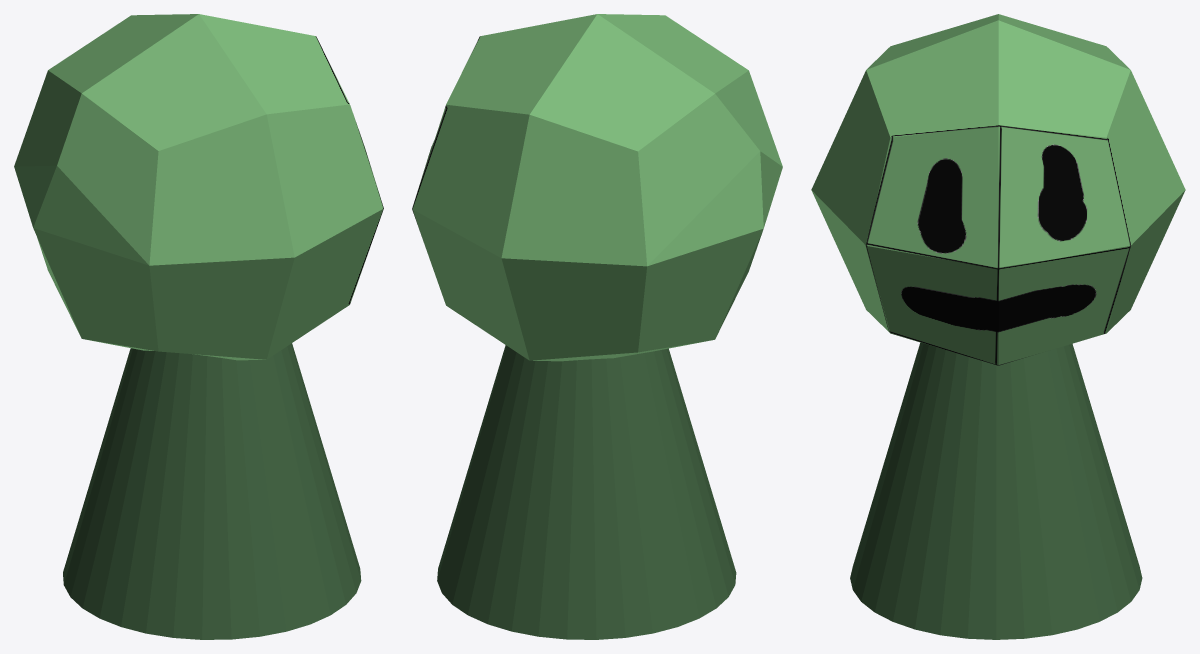
Rendered from person.glb.
The picture shows the model from 3 angles, left to right: view 1: azimuth 30°, elevation 25°; view 2: azimuth 150°, elevation 25°; view 3: azimuth 270°, elevation 25°; orthographic projection. The views are drawn at different scales.
Parts seen in each view (by area): view 1: Cube, Cylinder; view 2: Cube, Cylinder; view 3: Cube, Cylinder.
Part boxes in pixels (left/top/right/bottom): Cube: left=14, top=14, right=383, bottom=360; Cylinder: left=63, top=343, right=361, bottom=639; Cube: left=412, top=14, right=782, bottom=361; Cylinder: left=437, top=345, right=736, bottom=639; Cube: left=811, top=14, right=1185, bottom=365; Cylinder: left=850, top=342, right=1142, bottom=639.
Size of the model in its own units: 3.46 by 5.64 by 3.46.
2 materials, 1 textured.
